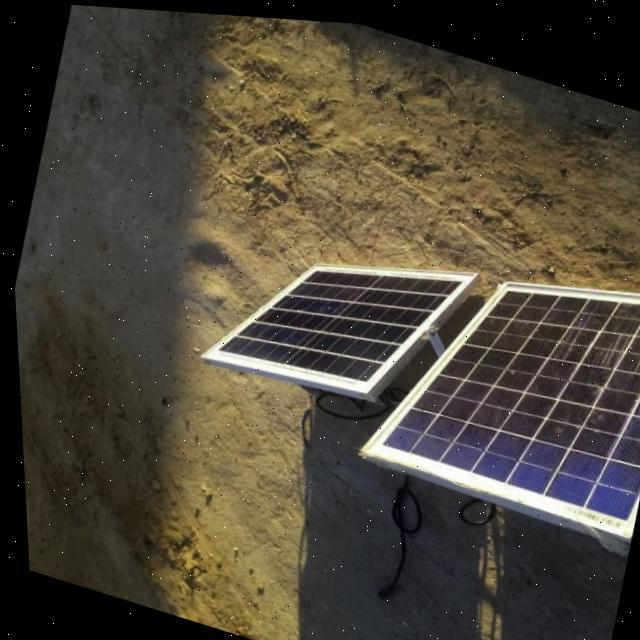Normal Solar Panel: (345, 195, 640, 532), (190, 192, 480, 430)
